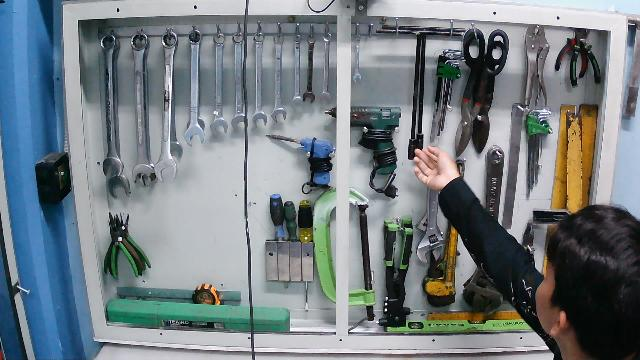kunci_l: (428, 44, 465, 150)
